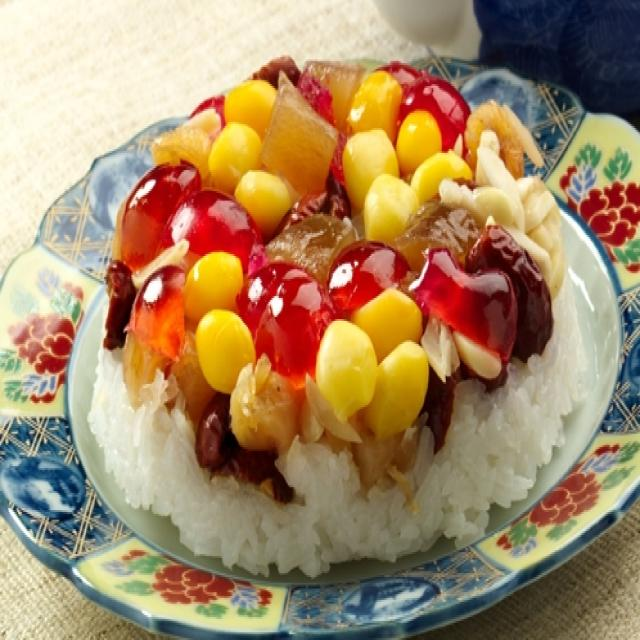米饭主食: (65, 44, 608, 586)
